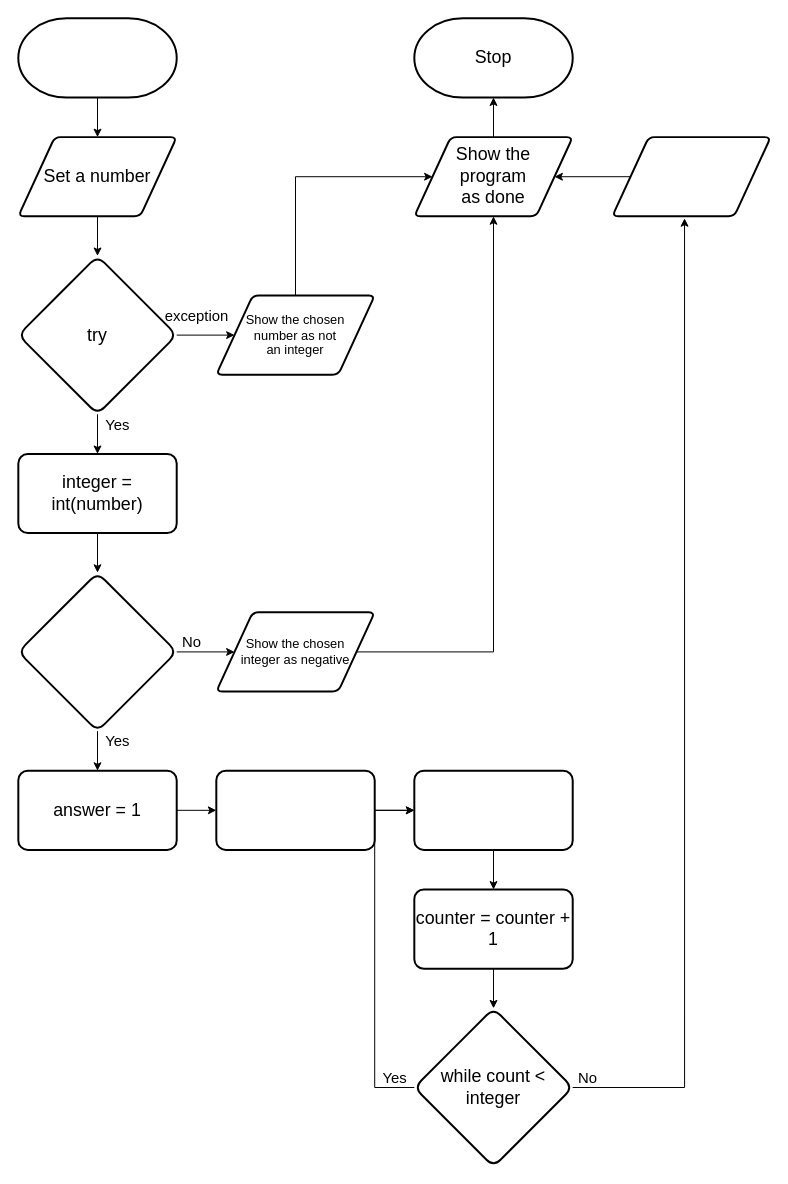
Some shapes in this 788 by 1184 pixel diagram are drawn without their labels. Each missing label, with the centre of its shape:
answer = answer * counter: the point at 493,809
counter = 1: the point at 295,809
if integer < 0: the point at 97,651
Show the answer: the point at 691,176
Start: the point at 97,57
